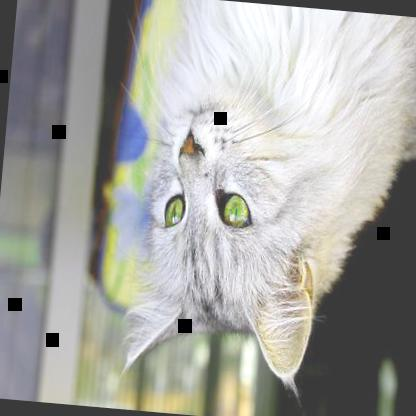cat: (124, 0, 415, 394)
